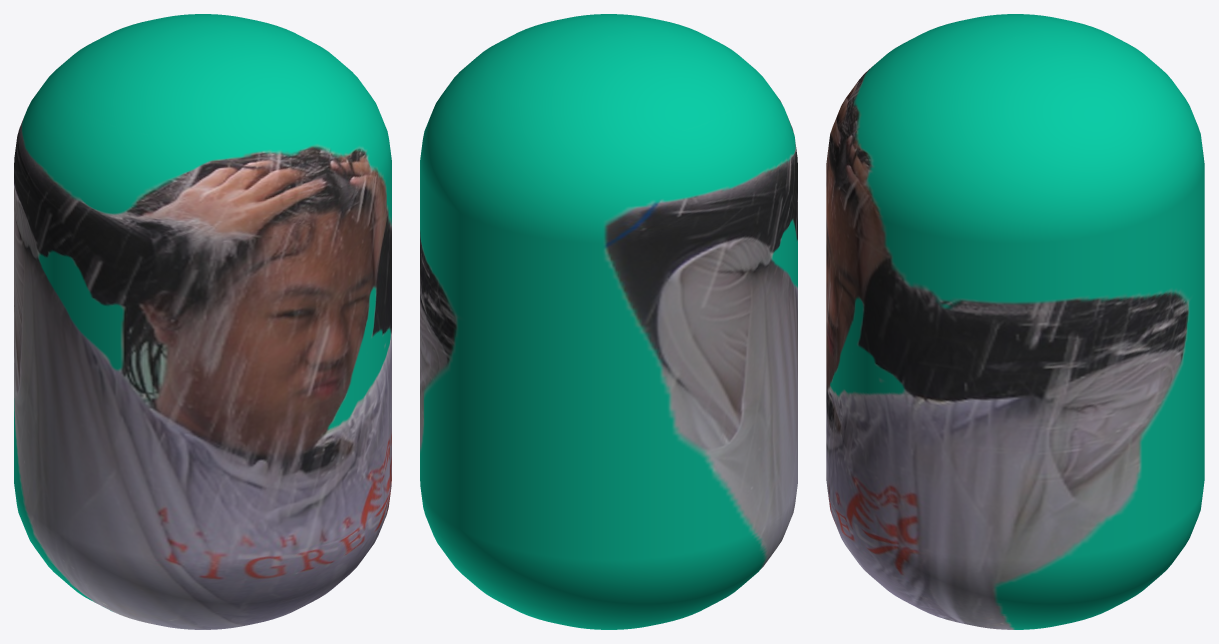
The model's file is Vince.gltf.
3 renders of one model, left to right at view 1: azimuth 30°, elevation 25°; view 2: azimuth 150°, elevation 25°; view 3: azimuth 270°, elevation 25°, orthographic.
Parts seen in each view (by area): view 1: Player; view 2: Player; view 3: Player.
Boxes of the visible parts, left/top/right/bottom form: Player: left=14, top=14, right=391, bottom=629; Player: left=420, top=14, right=797, bottom=629; Player: left=826, top=14, right=1204, bottom=629.
Bounding box in the file's own units: 0.8 × 1.33 × 0.8.
1 material, 1 textured.
